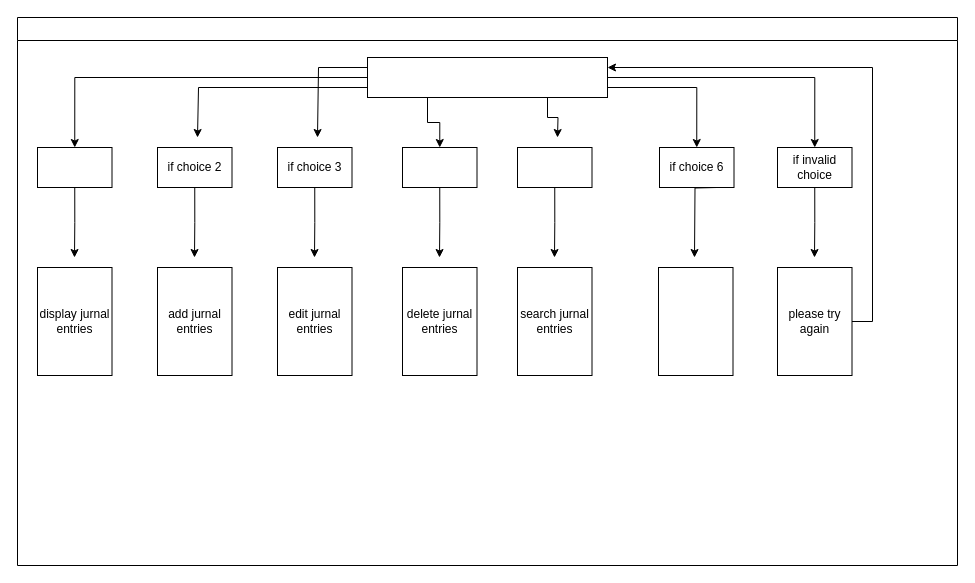
Some shapes in this 975 by 583 pixel diagram are drawn without their labels. The shapes that lost their labels are listed below. From the top down, each one's box as (x1, y1, x2, y2) in pixels, then its label:
(366, 56, 608, 98): main menu
(36, 146, 112, 188): if choice 1
(402, 146, 477, 188): if choice 4
(516, 146, 592, 188): if choice 5
(658, 266, 733, 376): end massages
